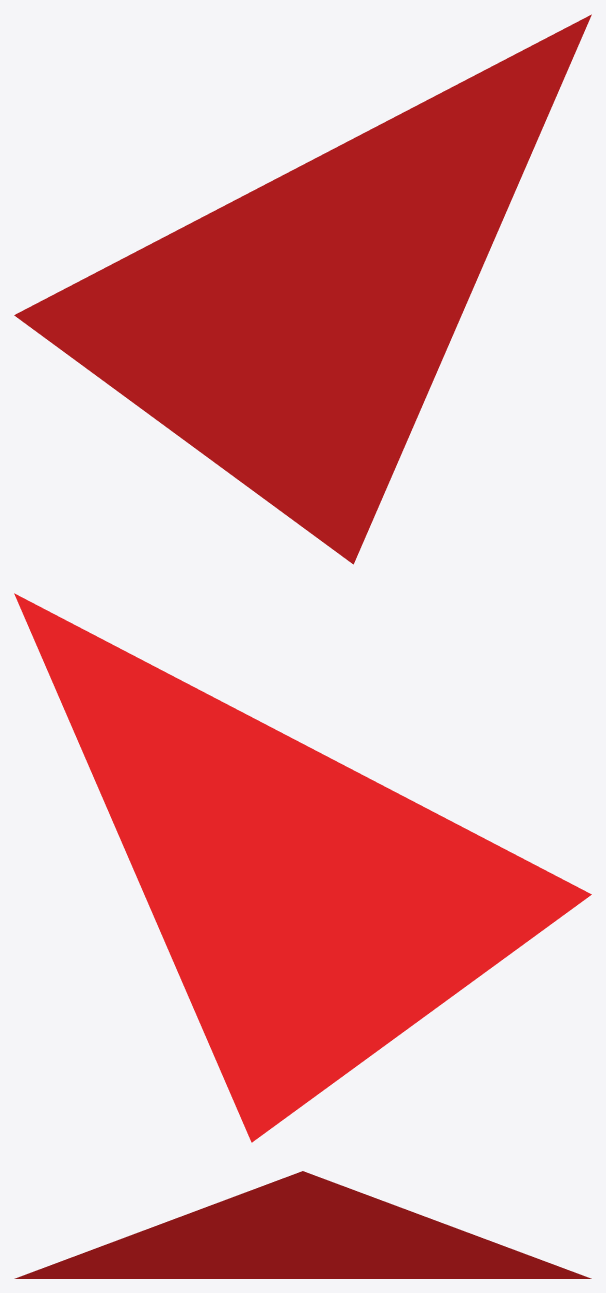
File: dice_red.fbx
3 renders of one model, top to bottom at view 1: azimuth 30°, elevation 25°; view 2: azimuth 150°, elevation 25°; view 3: azimuth 270°, elevation 25°, orthographic. The views are drawn at different scales.
Parts seen in each view (by area): view 1: 20_red; view 2: 20_red; view 3: 20_red.
Boxes of the visible parts, bbox=[...] form: 20_red: bbox=[14, 14, 591, 564]; 20_red: bbox=[14, 593, 591, 1142]; 20_red: bbox=[14, 1171, 591, 1278].
Size of the model in its own units: 65.16 by 49.76 by 93.98.
